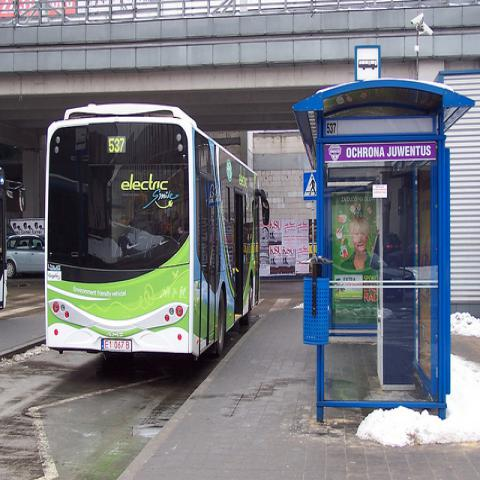bus: (44, 102, 270, 360)
car: (7, 233, 45, 281)
